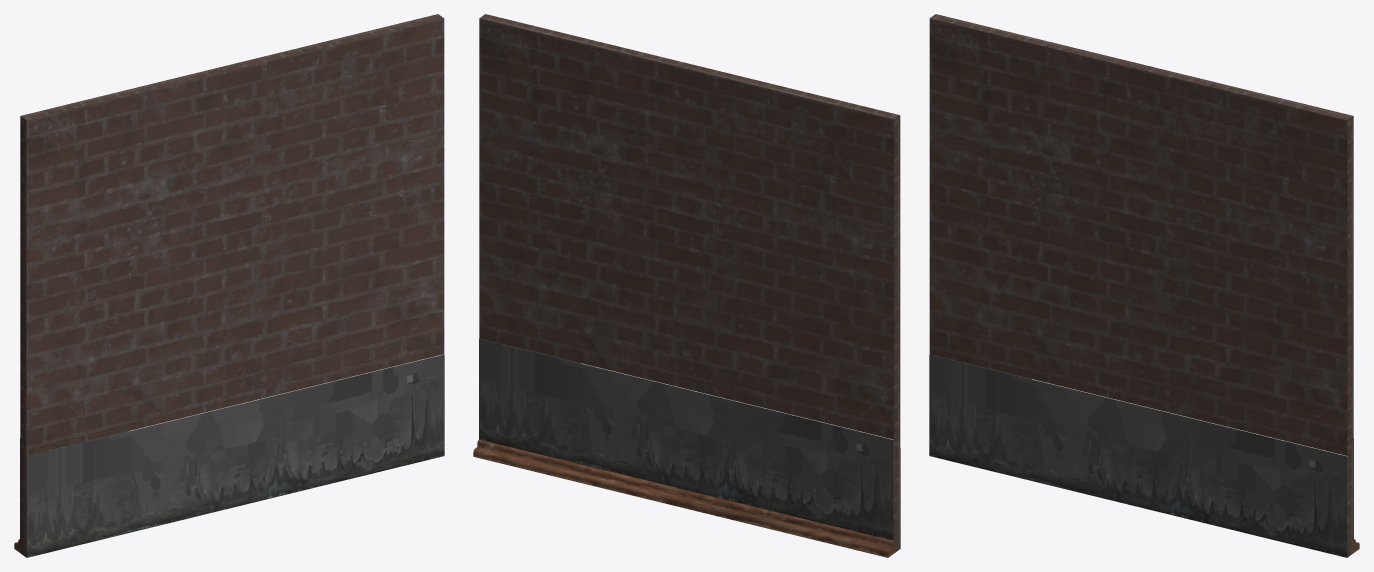
Rendered from Kit_BricksOldWoodEmpty02.fbx.
The picture shows the model from 3 angles, left to right: view 1: azimuth 30°, elevation 25°; view 2: azimuth 150°, elevation 25°; view 3: azimuth 330°, elevation 25°; orthographic projection.
Parts seen in each view (by area): view 1: Kit_BricksOldWoodEmpty02; view 2: Kit_BricksOldWoodEmpty02; view 3: Kit_BricksOldWoodEmpty02.
Boxes of the visible parts, box(x1,y1,x2,y2) form: Kit_BricksOldWoodEmpty02: box(14, 14, 444, 557); Kit_BricksOldWoodEmpty02: box(473, 14, 900, 557); Kit_BricksOldWoodEmpty02: box(929, 14, 1359, 557).
Bounding box in the file's own units: 157 × 157 × 8.1.
